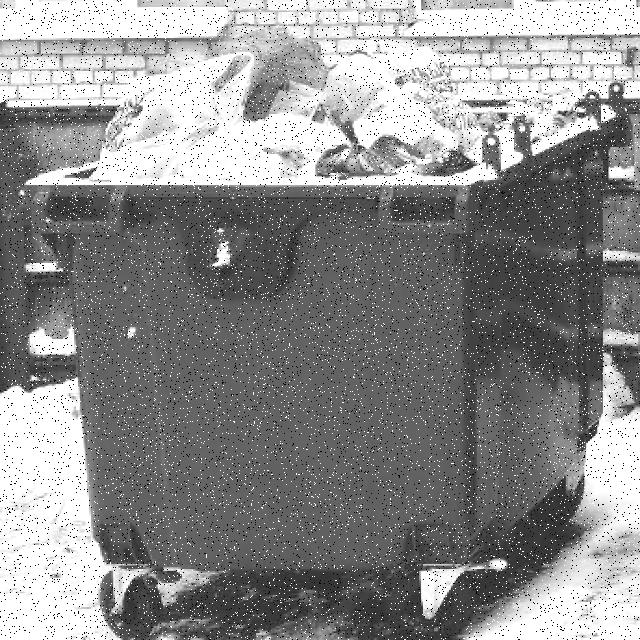Trashcan: (9, 15, 640, 628)
